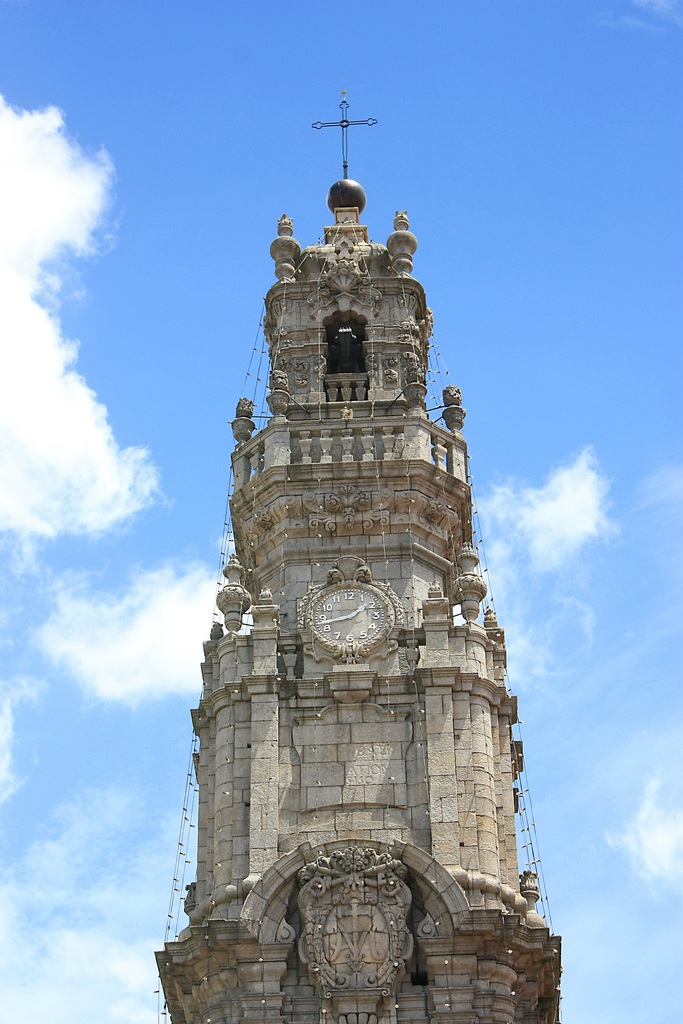clerigos: (150, 82, 564, 1023)
